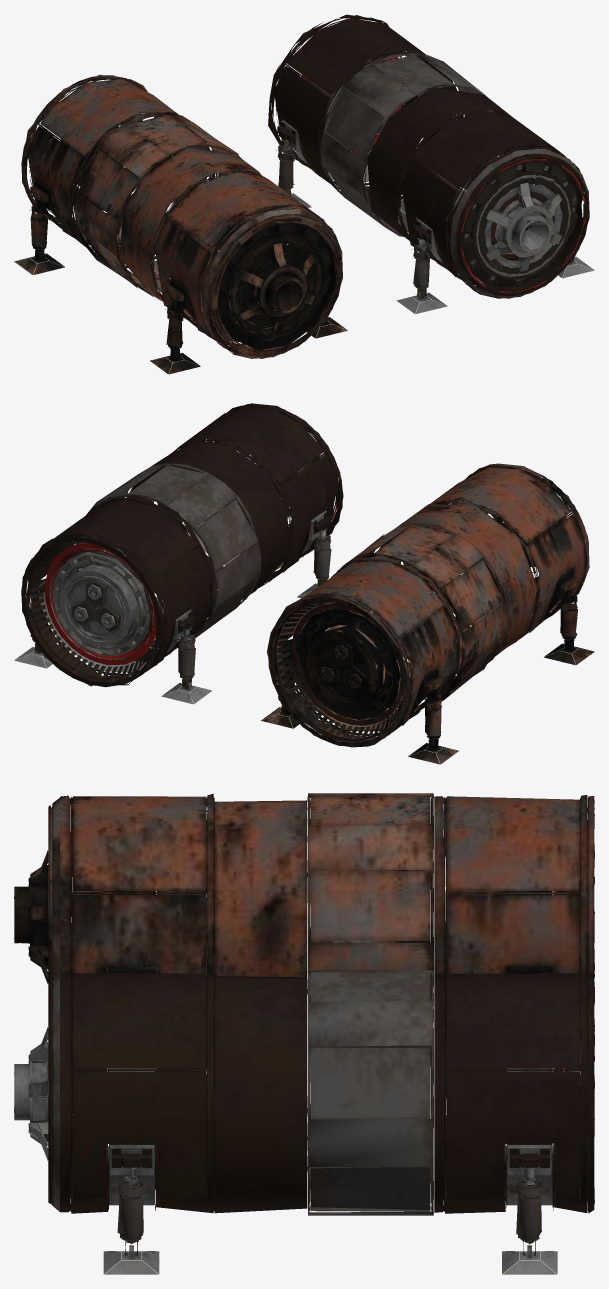
Rendered from distiller_machine.glb.
The picture shows the model from 3 angles, top to bottom: view 1: azimuth 30°, elevation 25°; view 2: azimuth 150°, elevation 25°; view 3: azimuth 270°, elevation 25°; orthographic projection. The views are drawn at different scales.
Visible parts, largest first — view 1: Machinery; view 2: Machinery; view 3: Machinery.
Boxes of the visible parts, <box> form: Machinery: <box>14,14,594,374</box>; Machinery: <box>14,403,594,764</box>; Machinery: <box>14,793,594,1274</box>.
Size of the model in its own units: 1.7 by 0.592 by 1.36.
2 materials, 2 textured.
